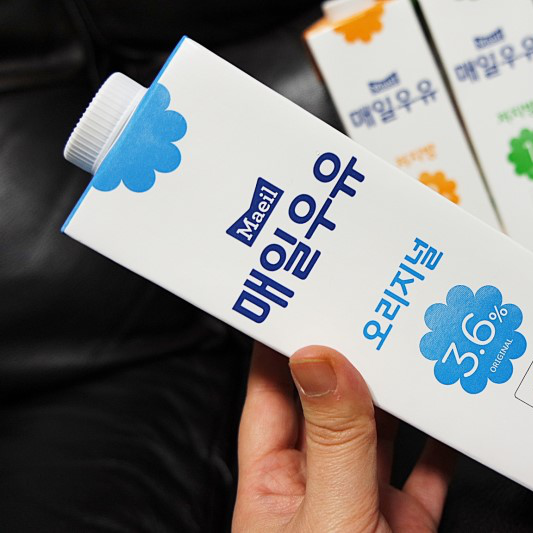milk: (57, 35, 533, 492), (301, 1, 533, 254)
